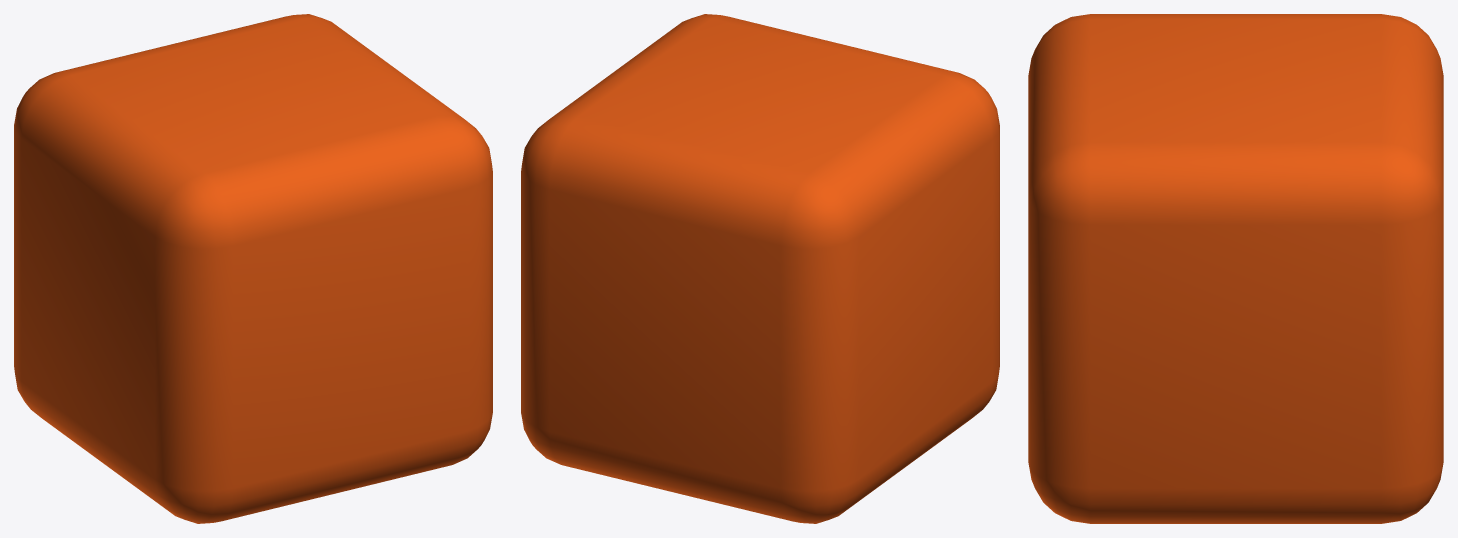
3 renders of one model, left to right at view 1: azimuth 30°, elevation 25°; view 2: azimuth 150°, elevation 25°; view 3: azimuth 270°, elevation 25°, orthographic. The views are drawn at different scales.
Parts seen in each view (by area): view 1: BR; view 2: BR; view 3: BR.
Boxes of the visible parts, x1=… form: BR: x1=14, y1=14, x2=492, y2=523; BR: x1=521, y1=14, x2=999, y2=523; BR: x1=1028, y1=14, x2=1443, y2=523.
Bounding box in the file's own units: 1 × 1 × 1.
